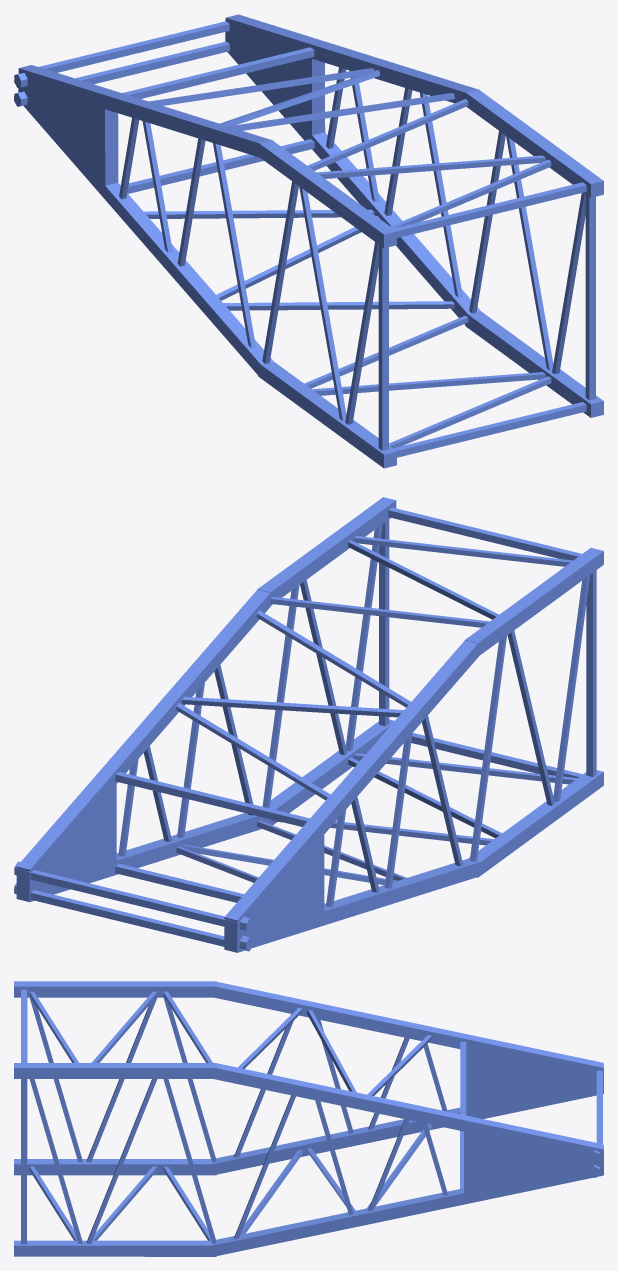
File: swingArmBoomEnd.glb
3 views of the same model, one above another, from view 1: azimuth 30°, elevation 25°; view 2: azimuth 150°, elevation 25°; view 3: azimuth 270°, elevation 25° (orthographic). The views are drawn at different scales.
Parts seen in each view (by area): view 1: swingArmBoomEnd; view 2: swingArmBoomEnd; view 3: swingArmBoomEnd.
Boxes of the visible parts, x1,y1,x2,y2 form: swingArmBoomEnd: (14,14,603,468); swingArmBoomEnd: (14,497,603,952); swingArmBoomEnd: (14,981,603,1256).
Size of the model in its own units: 88.39 by 85.5 by 242.
